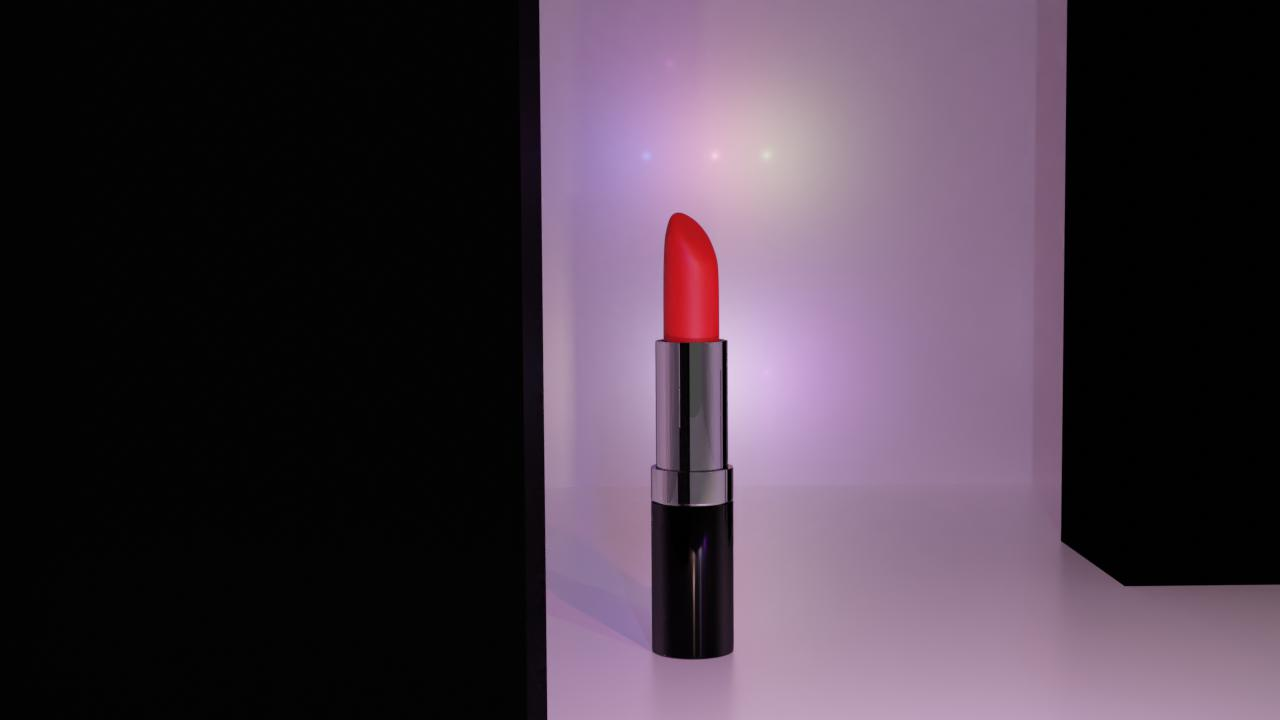CLASSIFIER_NAME: (650, 207, 735, 660)
